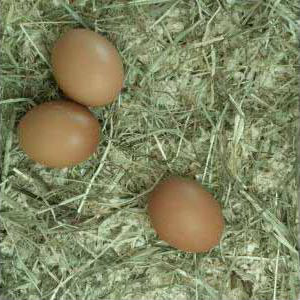egg: (149, 179, 224, 253), (51, 29, 123, 105), (17, 101, 99, 167)
